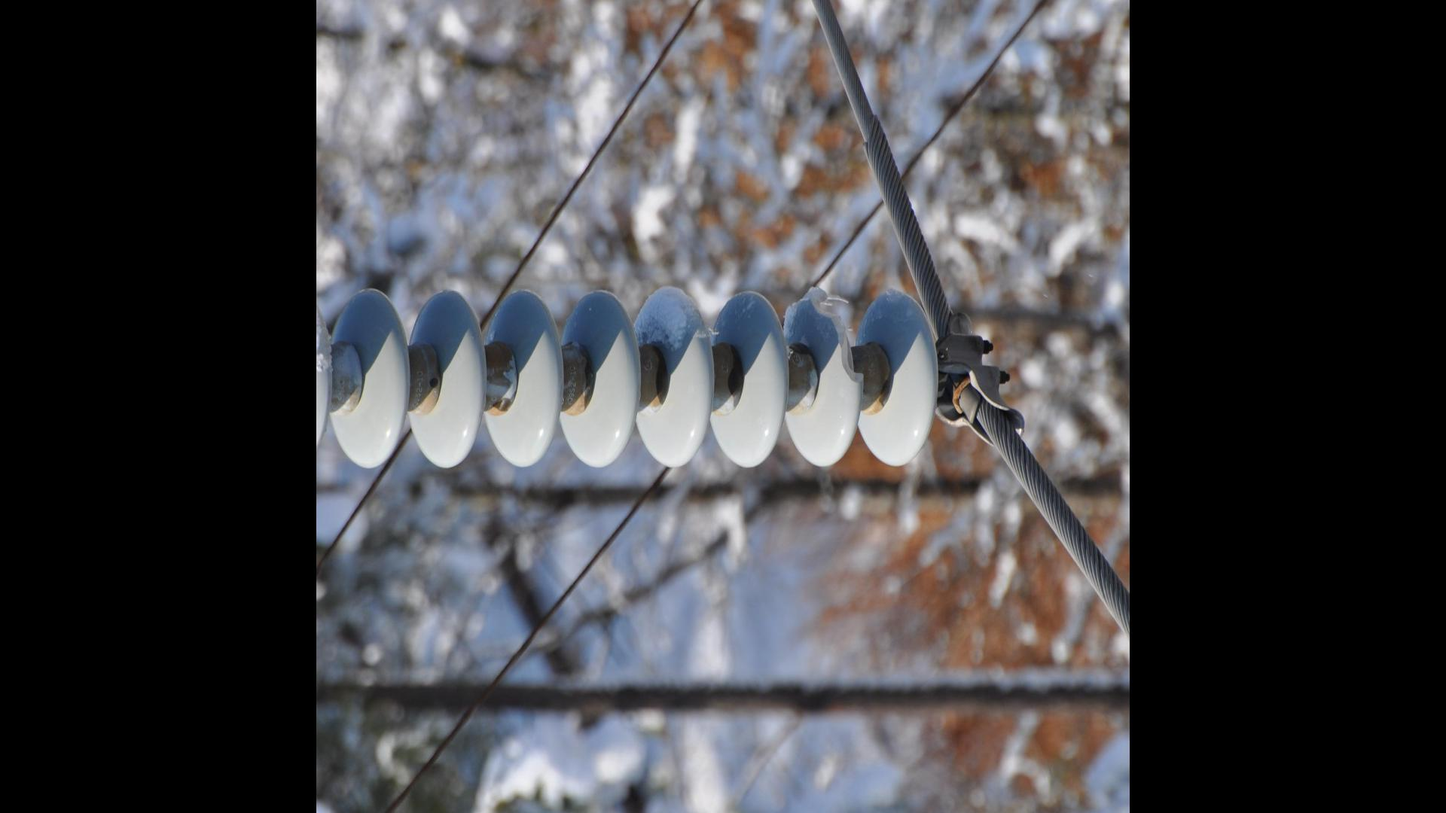insulator: (317, 285, 944, 474)
insulator_breakage: (801, 285, 868, 388)
